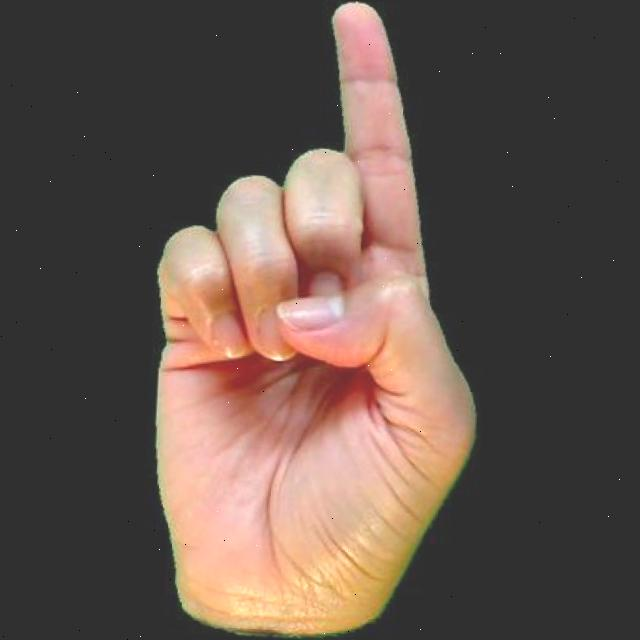d: (132, 0, 501, 640)
